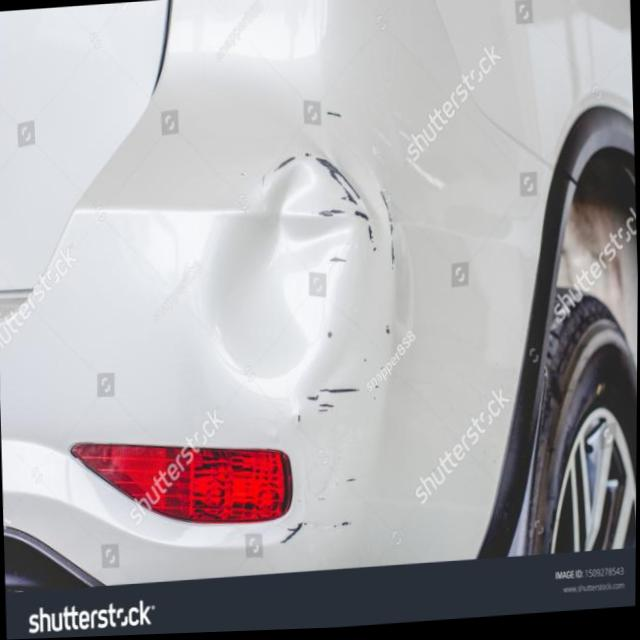Dent: (180, 126, 384, 413)
